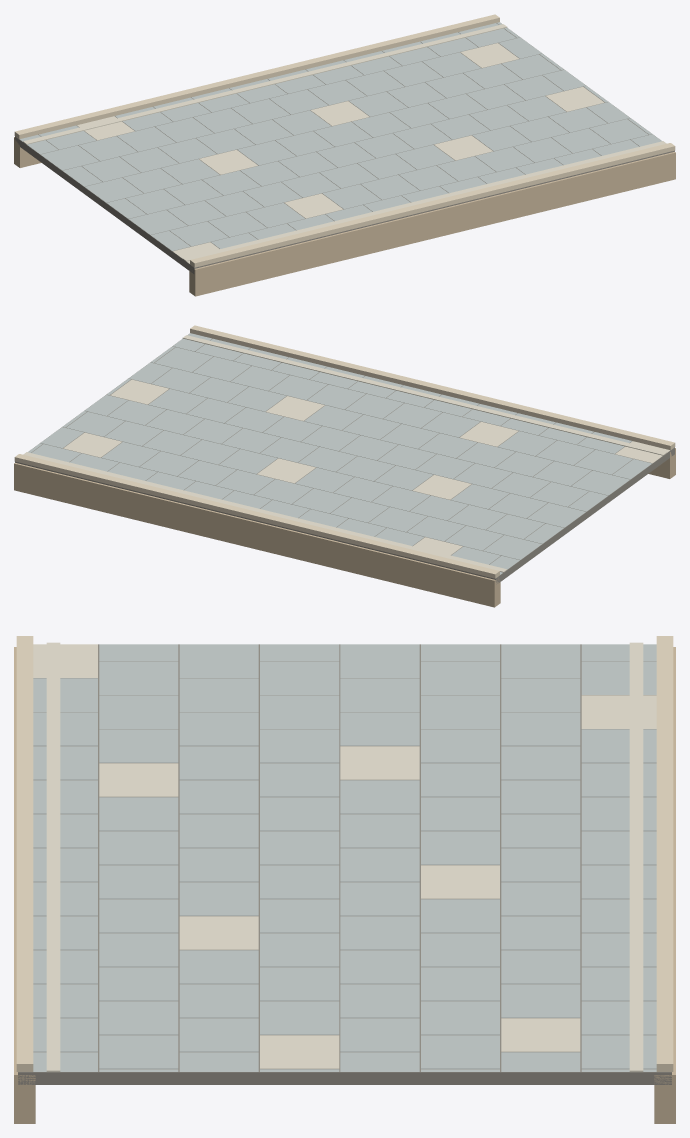
File: Promenade02.glb
3 renders of one model, top to bottom at view 1: azimuth 30°, elevation 25°; view 2: azimuth 150°, elevation 25°; view 3: azimuth 270°, elevation 25°, orthographic. The views are drawn at different scales.
Visible parts, largest first — view 1: Promenade02; view 2: Promenade02; view 3: Promenade02.
Boxes of the visible parts, x1=… form: Promenade02: x1=14, y1=14, x2=675, y2=296; Promenade02: x1=14, y1=325, x2=675, y2=607; Promenade02: x1=14, y1=636, x2=675, y2=1123.
Bounding box in the file's own units: 19.52 × 1.27 × 12.76.
